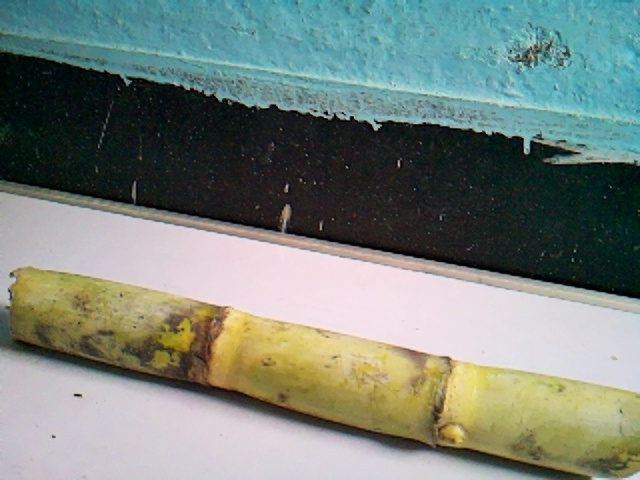Good Sugarcane: (4, 266, 639, 477)
Node: (408, 346, 489, 457), (182, 296, 250, 396)
